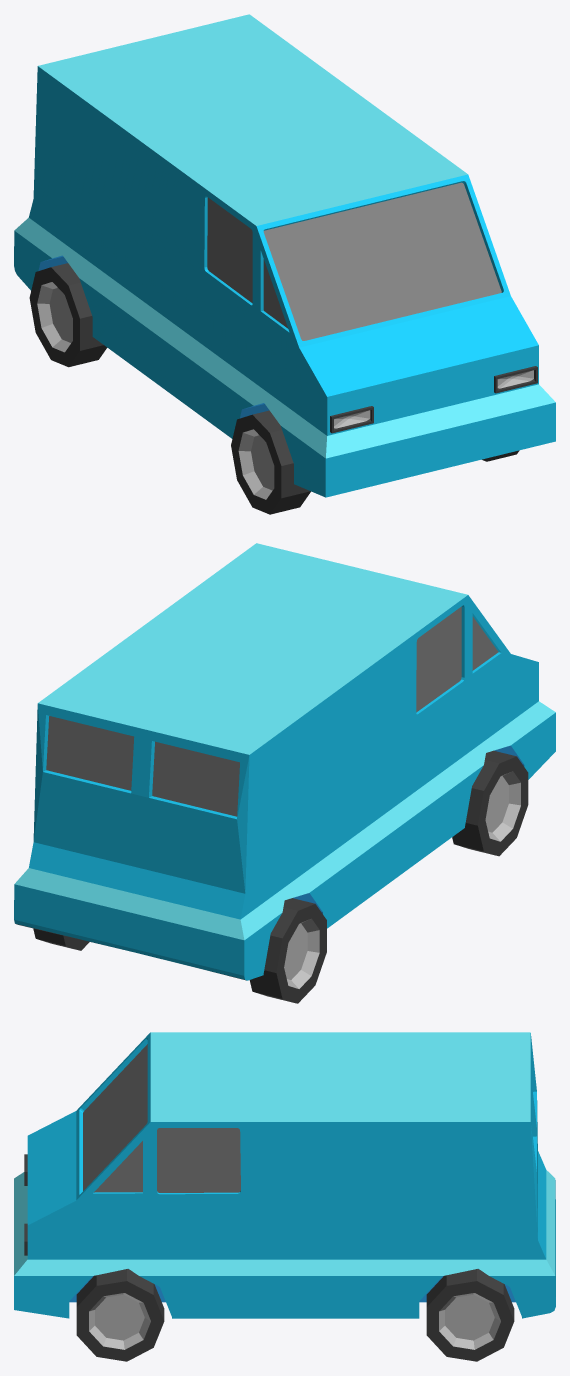
The model's file is assmobile.fbx.
3 renders of one model, top to bottom at view 1: azimuth 30°, elevation 25°; view 2: azimuth 150°, elevation 25°; view 3: azimuth 270°, elevation 25°, orthographic. The views are drawn at different scales.
Parts seen in each view (by area): view 1: Cube, Цилиндр; view 2: Cube, Цилиндр; view 3: Cube, Цилиндр.
Part boxes in pixels (<box>): Cube: <box>14,14,555,497</box>; Цилиндр: <box>29,263,519,514</box>; Cube: <box>14,543,555,980</box>; Цилиндр: <box>33,750,528,1003</box>; Cube: <box>14,1032,555,1318</box>; Цилиндр: <box>76,1269,514,1361</box>.
Bounding box in the file's own units: 2.33 × 2.41 × 5.1.
1 material, 1 textured.
